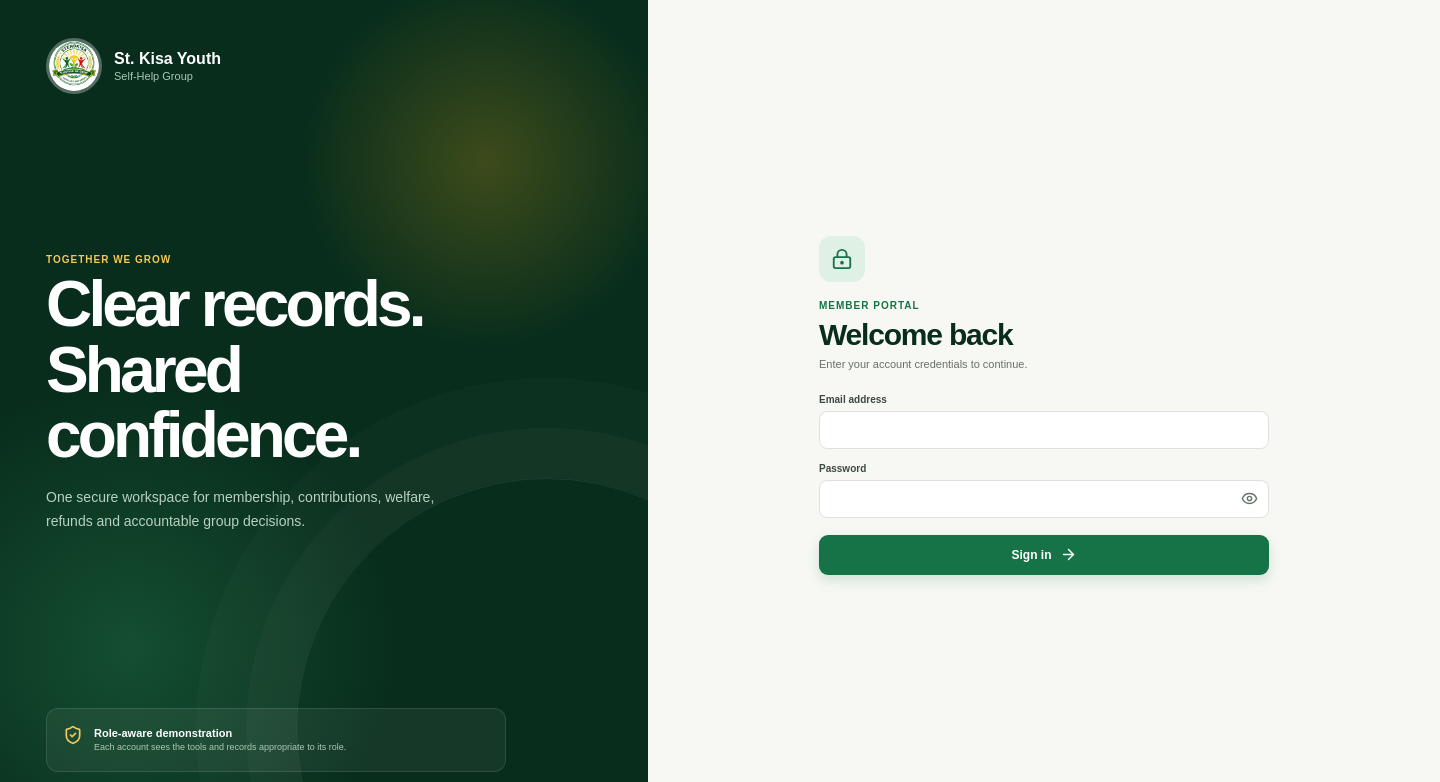
St. Kisa member portal › renders the /investments workspace
This screenshot has width=1440, height=782.
In the field labelled "Email address": (1044, 430) [819,410,1269,448], type "admin@stkisa.org"
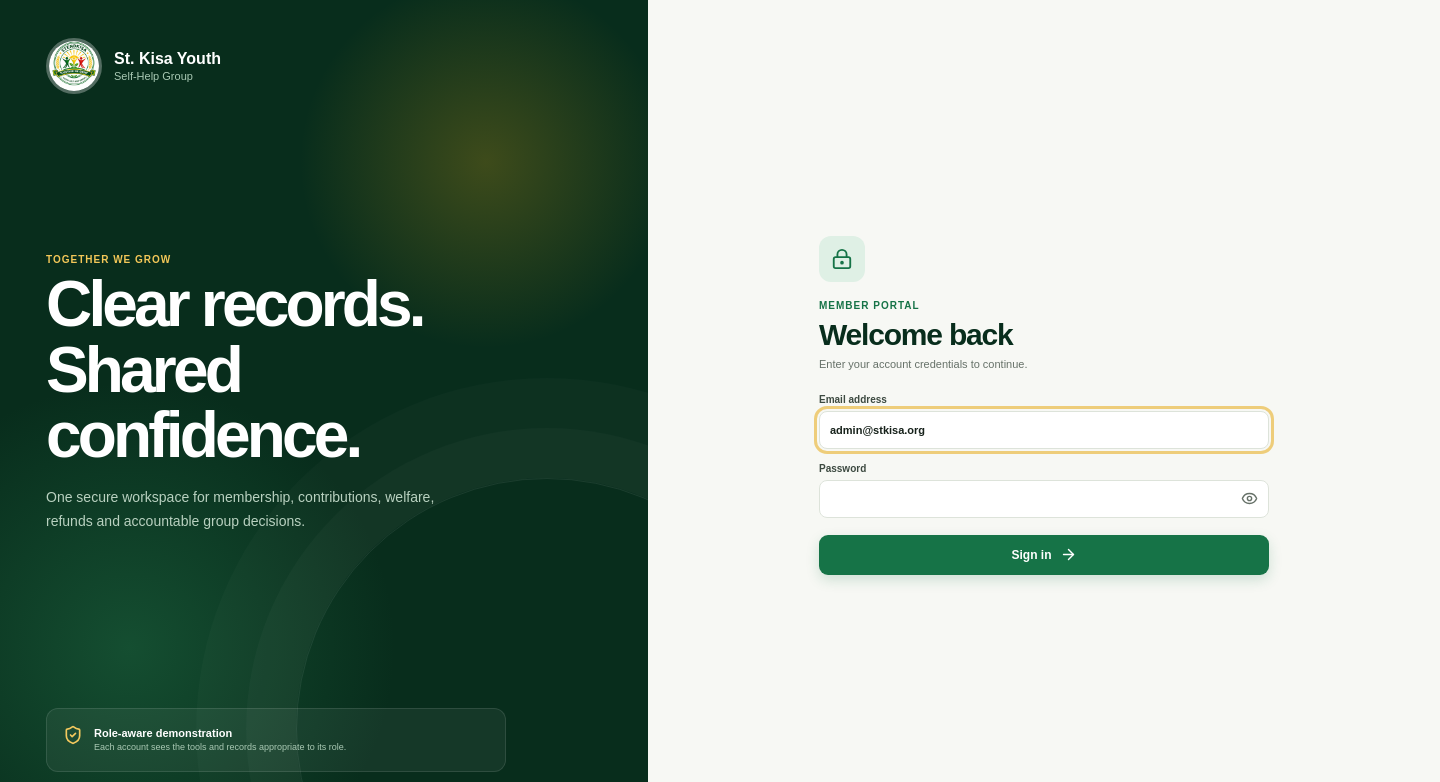
In the password field labelled "Password": (1044, 498) [819,480,1269,518], type "Demo@2026"
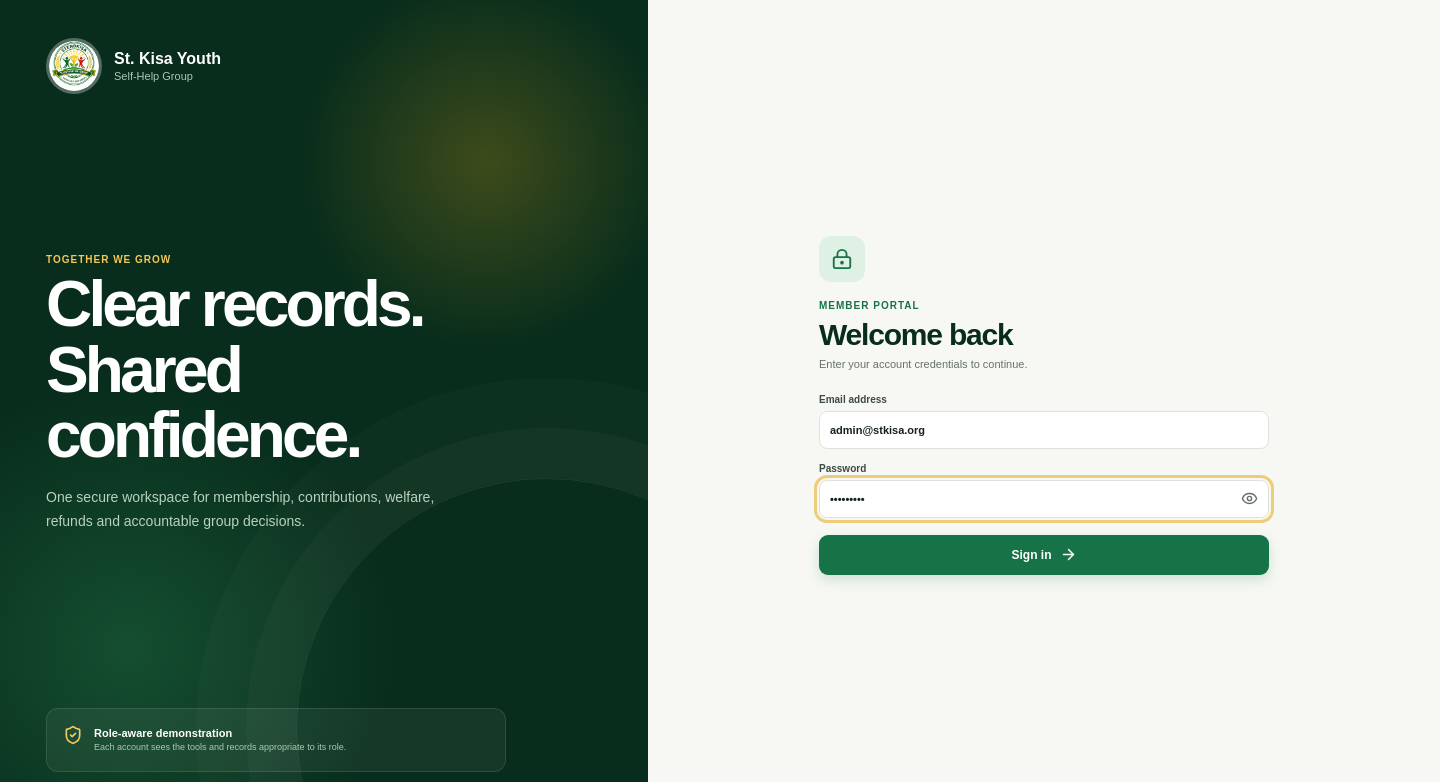
Click the button "Sign in": (1044, 554) [819,534,1269,574]
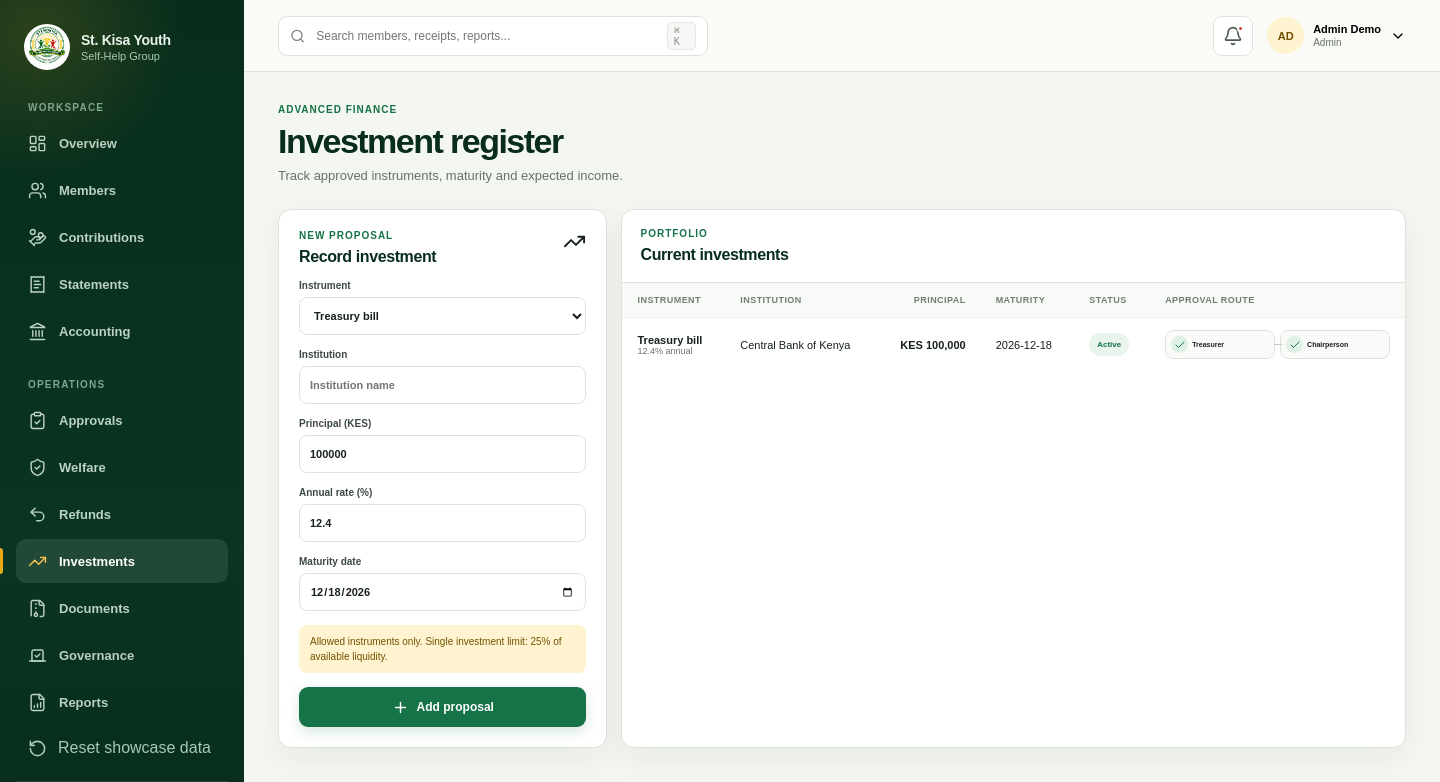
Result: the heading "Investment register" is shown at [278,122,563,160]
